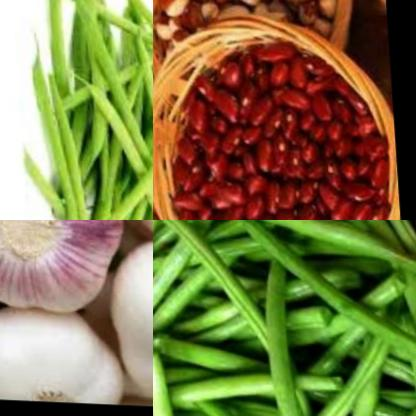fasol: (153, 220, 416, 416), (158, 45, 387, 220), (6, 0, 153, 220), (153, 0, 342, 80)
garlic: (0, 292, 125, 403), (0, 220, 122, 312), (101, 228, 153, 407)
